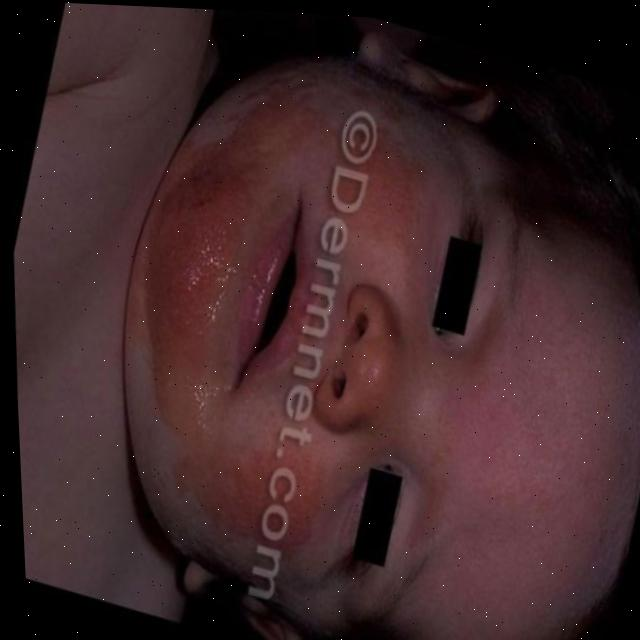Eczema: (136, 142, 437, 539)
